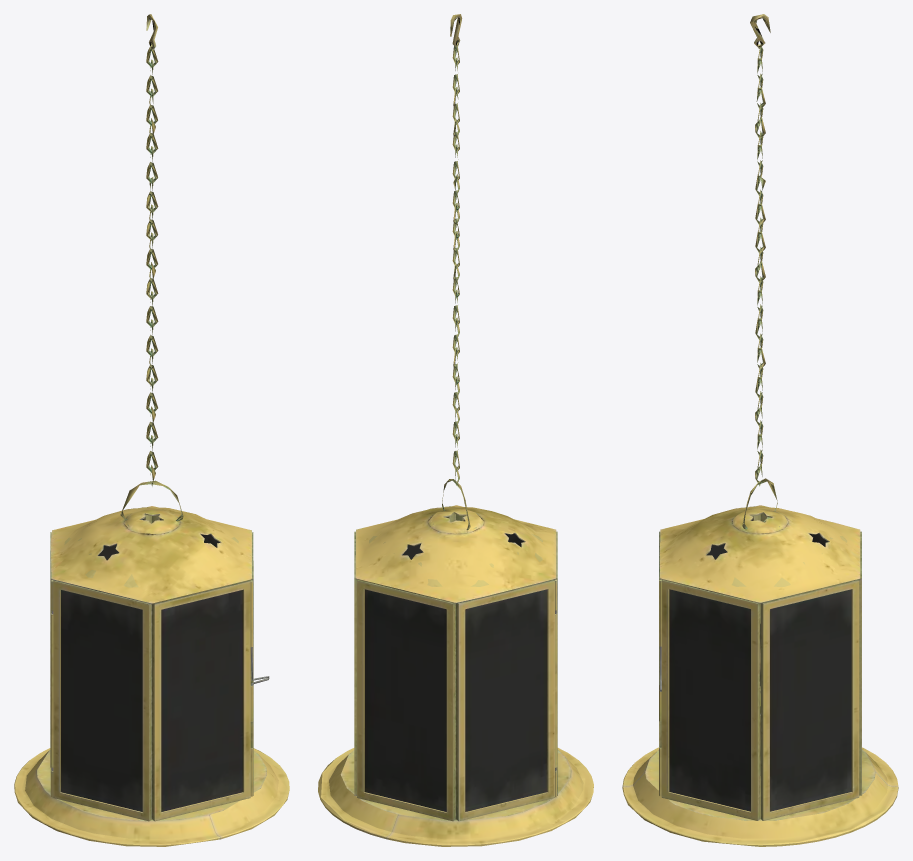
Rendered from brass_diya_lantern.glb.
3 views of the same model, side by side, from view 1: azimuth 30°, elevation 25°; view 2: azimuth 150°, elevation 25°; view 3: azimuth 270°, elevation 25° (orthographic).
Visible parts, largest first — view 1: brass_diya_lantern, brass_diya_lantern_connection; view 2: brass_diya_lantern, brass_diya_lantern_connection; view 3: brass_diya_lantern, brass_diya_lantern_connection.
Part boxes in pixels (left/top/right/bottom): brass_diya_lantern: left=14, top=506, right=289, bottom=846; brass_diya_lantern_connection: left=120, top=14, right=183, bottom=521; brass_diya_lantern: left=318, top=505, right=593, bottom=846; brass_diya_lantern_connection: left=442, top=14, right=470, bottom=530; brass_diya_lantern: left=622, top=505, right=898, bottom=846; brass_diya_lantern_connection: left=742, top=14, right=777, bottom=529.
Bounding box in the file's own units: 0.123 × 0.3806 × 0.123.
3 materials, 3 textured.
